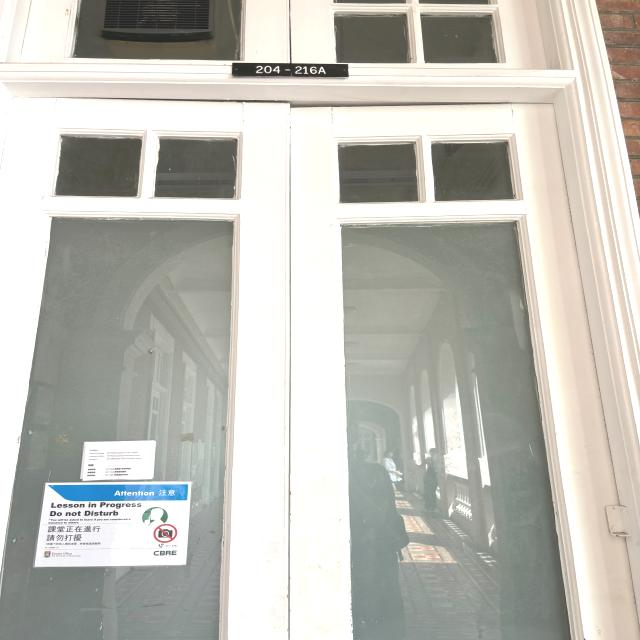MB204_roomNumber: (228, 52, 358, 90)
